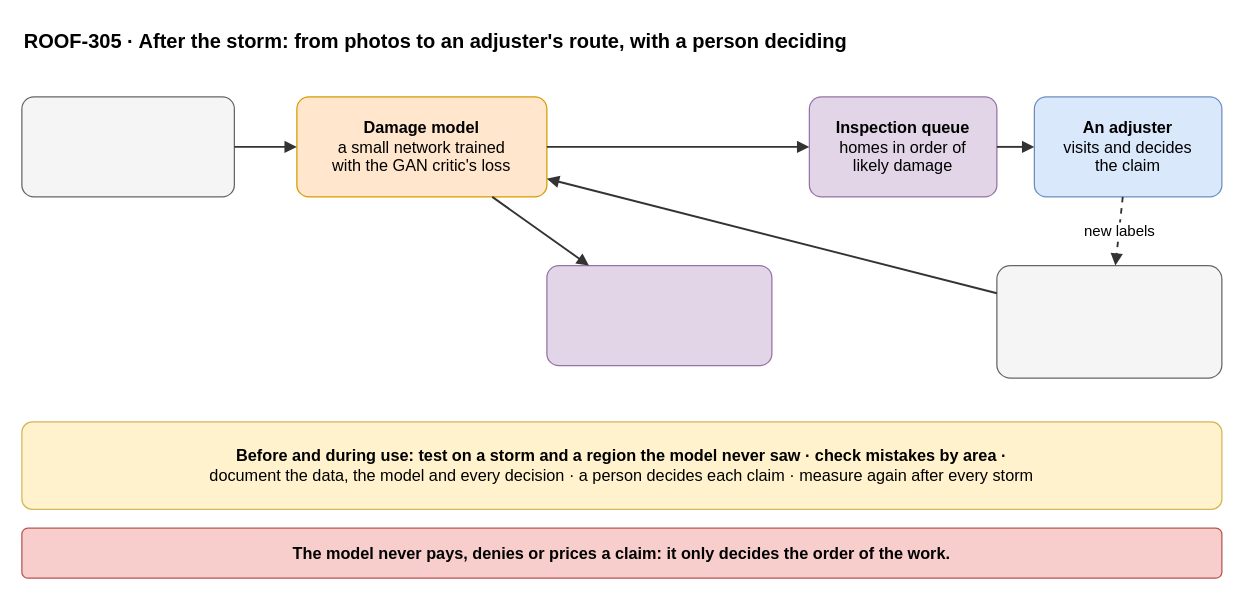
This 1244x600 diagram has some shape labels left out. Each missing label, with the centre of its shape:
"Damage per town how many adjusters, how much money" belongs at pixel 659 315.
"Expert labels here: FEMA's damage levels; at work: adjusters' findings" belongs at pixel 1109 321.
"Photos after the storm NOAA, flown the next day" belongs at pixel 127 146.
